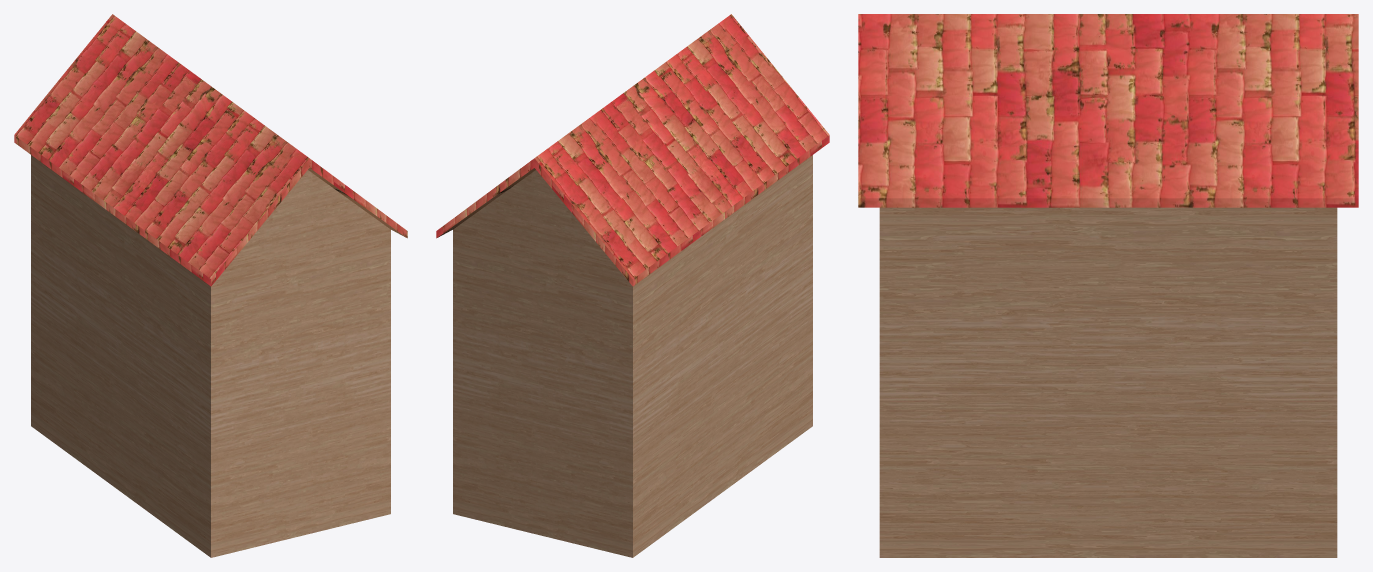
The picture shows the model from 3 angles, left to right: view 1: azimuth 30°, elevation 25°; view 2: azimuth 150°, elevation 25°; view 3: azimuth 270°, elevation 25°; orthographic projection. The views are drawn at different scales.
Parts seen in each view (by area): view 1: Cube.001; view 2: Cube.001; view 3: Cube.001.
Part boxes in pixels (bbox=[...]): Cube.001: bbox=[14, 14, 407, 557]; Cube.001: bbox=[436, 14, 829, 557]; Cube.001: bbox=[858, 14, 1358, 557].
Size of the model in its own units: 0.8756 by 1.63 by 1.52.
3 materials, 3 textured.
